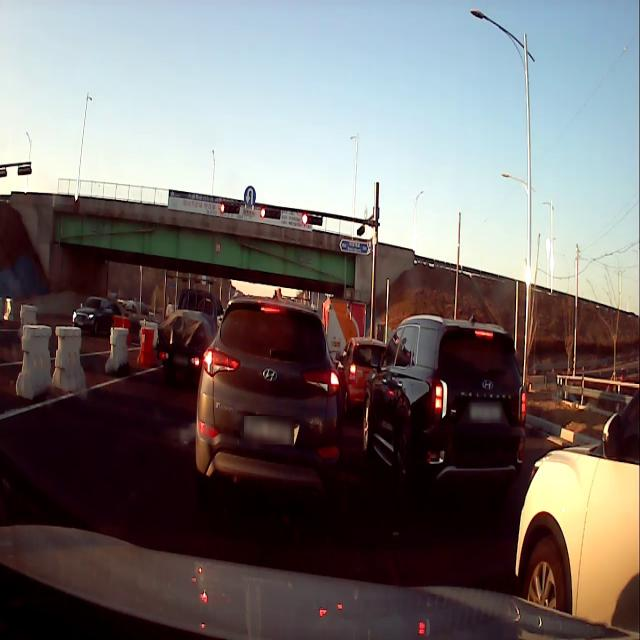Red Light: (260, 206, 266, 218), (302, 214, 308, 225), (220, 202, 225, 214)
